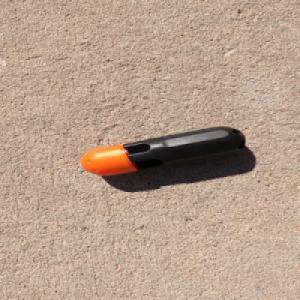PlasticPart: (79, 126, 246, 176)
